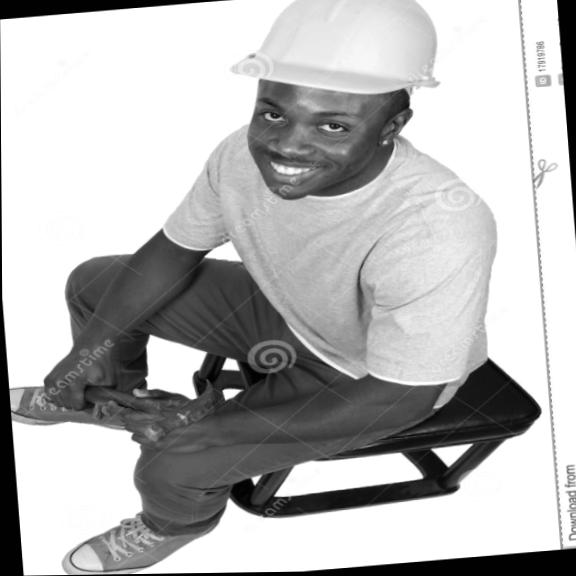no_safety_vest: (162, 104, 518, 440)
